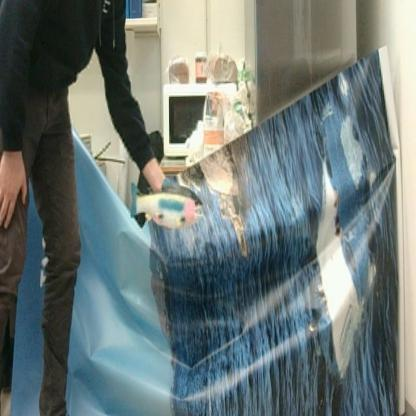rubberfish: (130, 178, 203, 230)
